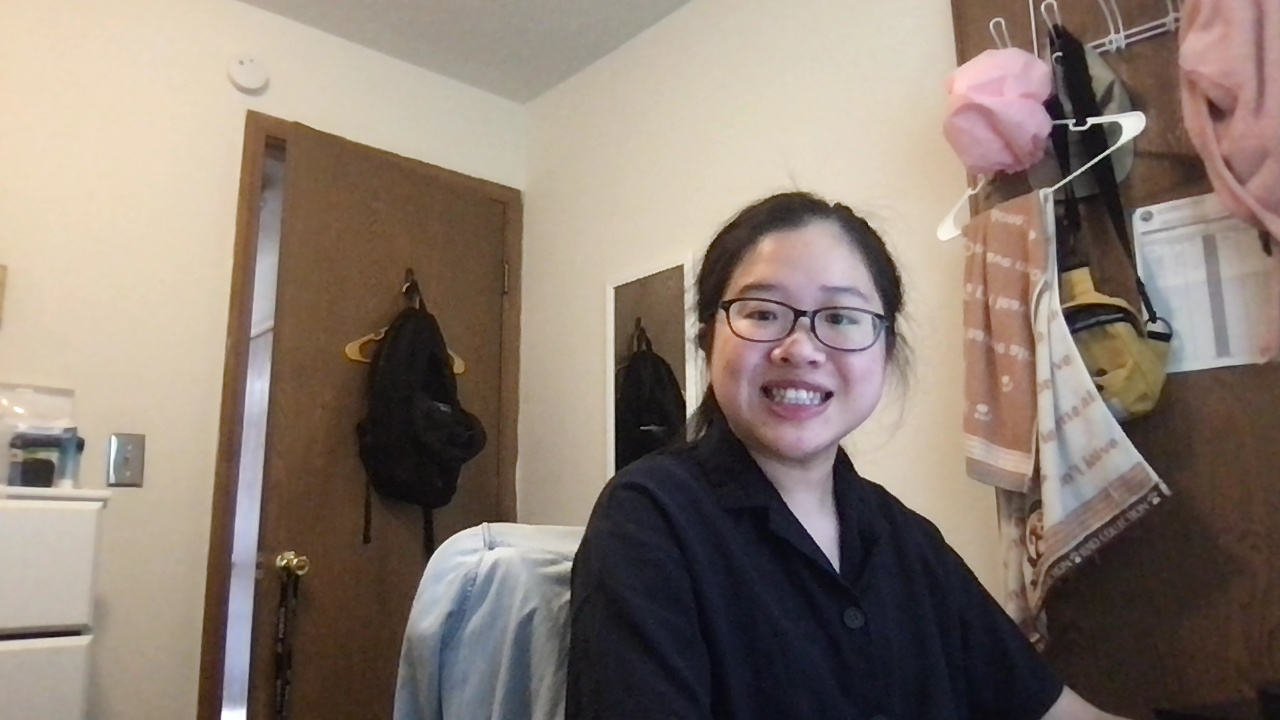NoMask: (719, 335, 889, 447)
